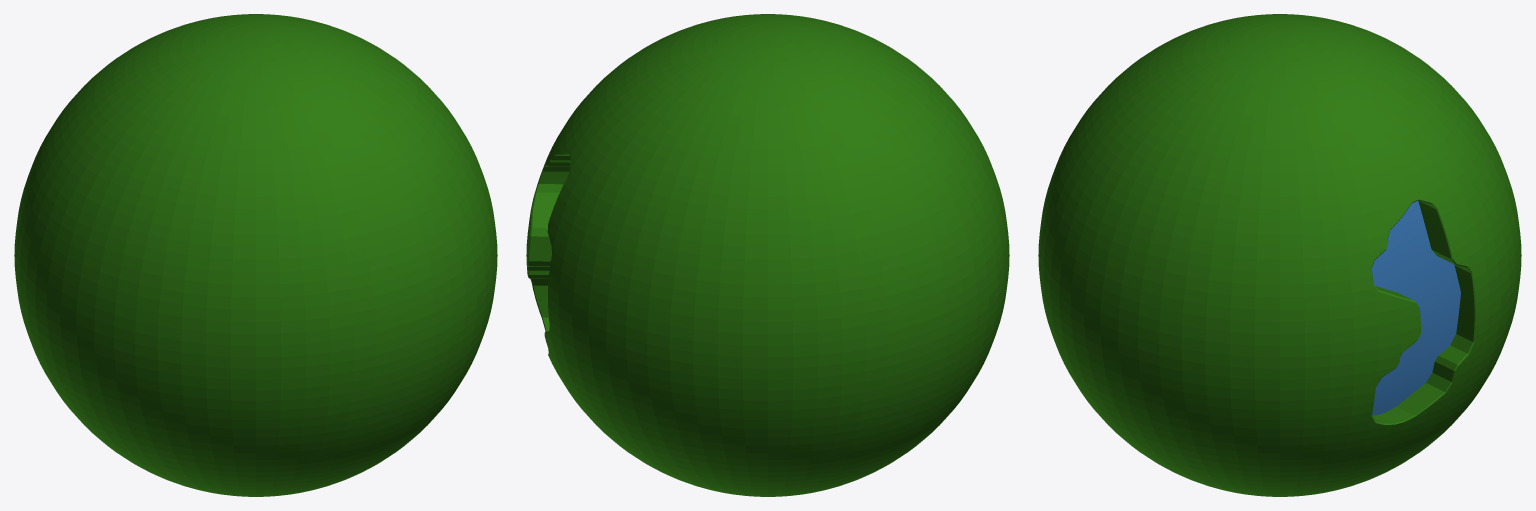
File: Mundo 01.fbx
The picture shows the model from 3 angles, left to right: view 1: azimuth 30°, elevation 25°; view 2: azimuth 150°, elevation 25°; view 3: azimuth 270°, elevation 25°; orthographic projection.
Parts seen in each view (by area): view 1: Mundo 01; view 2: Mundo 01; view 3: Mundo 01, Lago.
Boxes of the visible parts, x1=… form: Mundo 01: x1=14, y1=14, x2=497, y2=496; Mundo 01: x1=526, y1=14, x2=1009, y2=496; Mundo 01: x1=1038, y1=14, x2=1521, y2=496; Lago: x1=1371, y1=201, x2=1460, y2=415.
Bounding box in the file's own units: 2300 × 2300 × 2300.
